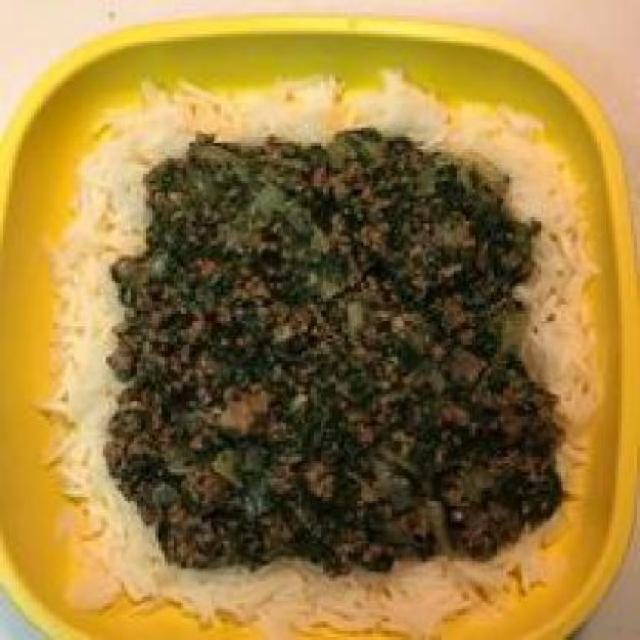fried rice: (37, 65, 594, 630)
molokhia: (118, 136, 550, 544)
